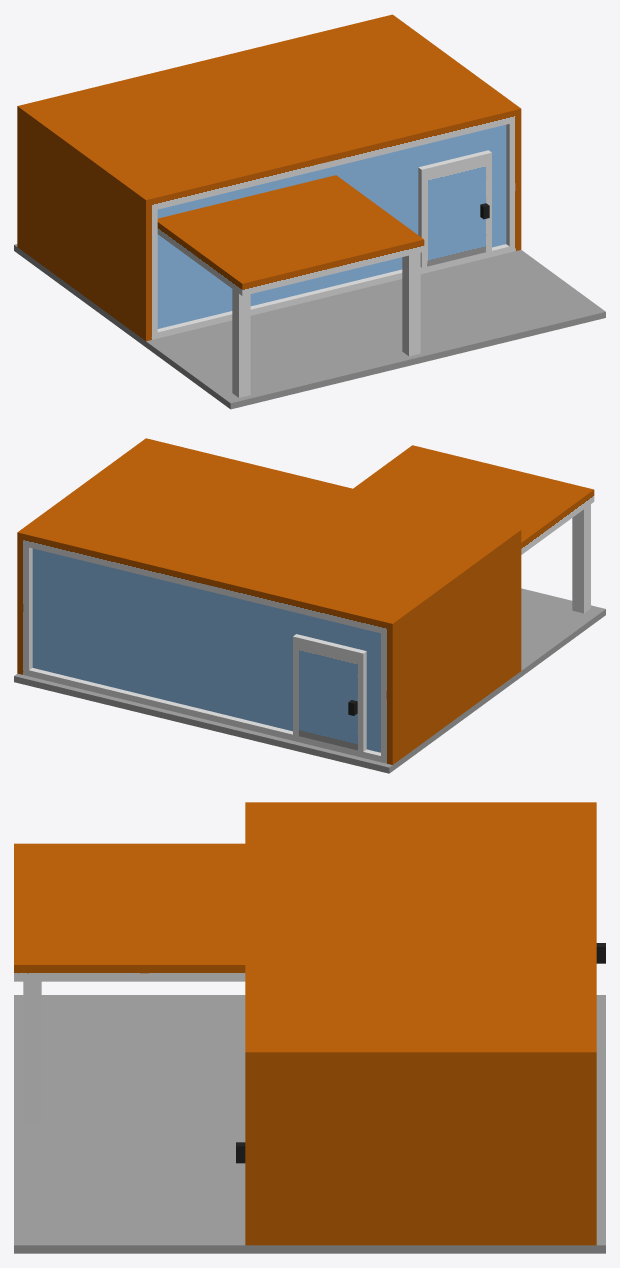
File: obj_house2b.dae
3 renders of one model, top to bottom at view 1: azimuth 30°, elevation 25°; view 2: azimuth 150°, elevation 25°; view 3: azimuth 270°, elevation 25°, orthographic. The views are drawn at different scales.
Parts seen in each view (by area): view 1: obj_house2b; view 2: obj_house2b; view 3: obj_house2b.
Part boxes in pixels (left/top/right/bottom): obj_house2b: left=14, top=14, right=605, bottom=409; obj_house2b: left=14, top=438, right=605, bottom=773; obj_house2b: left=14, top=802, right=605, bottom=1253.
Size of the model in its own units: 6.4 by 6.4 by 2.4.
Materials: 1 (1 with a texture image).
